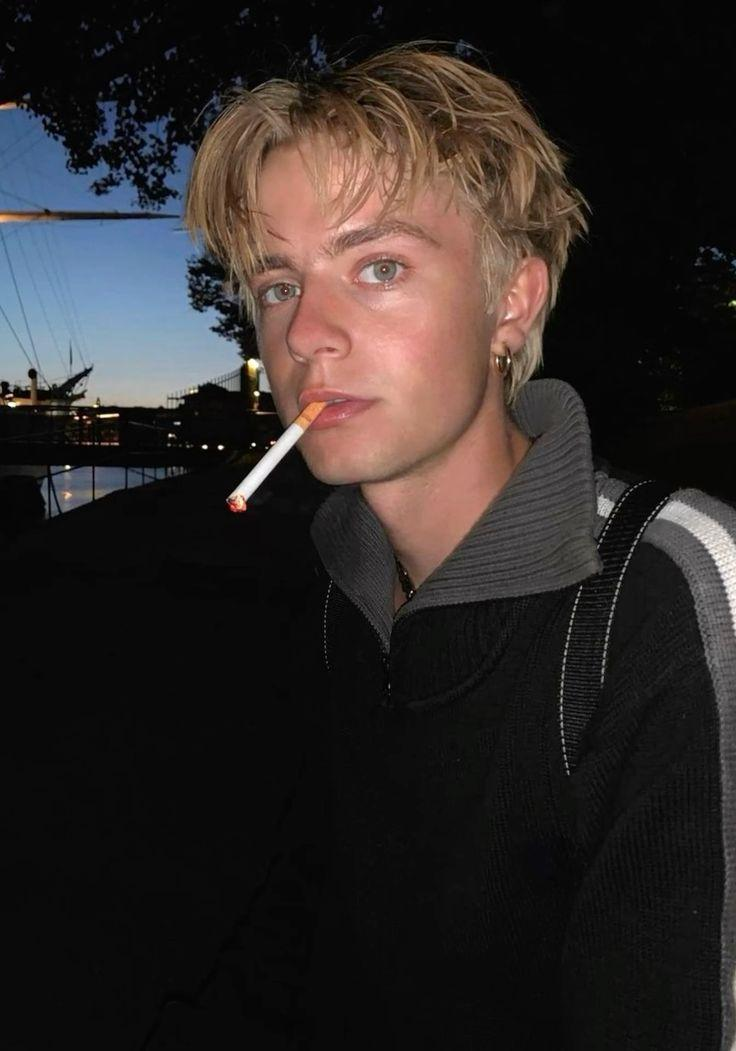cigarette: (226, 399, 330, 512)
